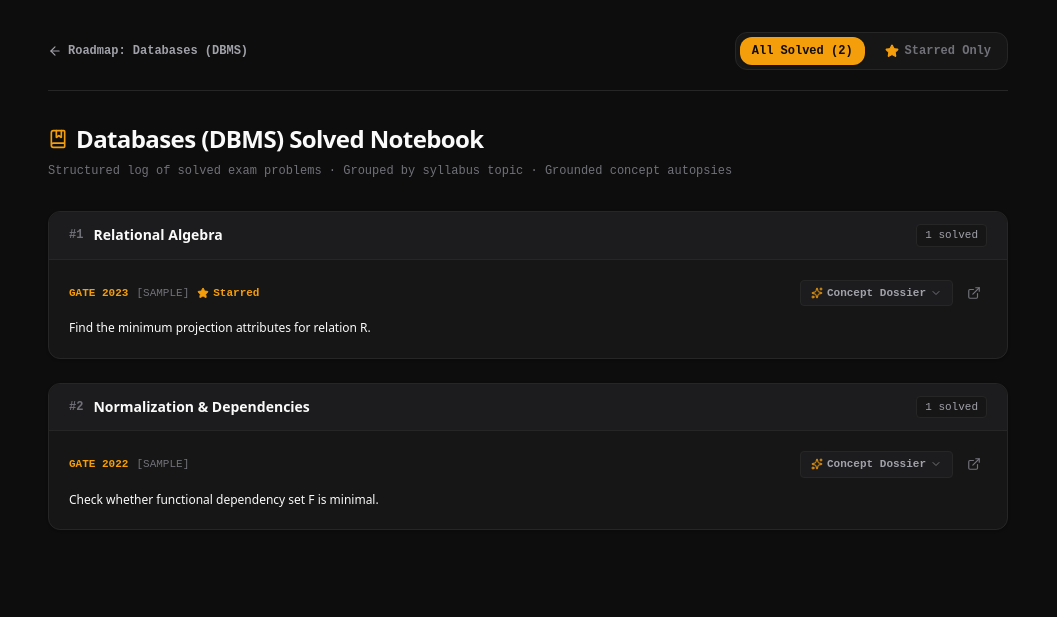
Test: SubjectNotebookPage › shows fallback message when anatomy dossier is absent
Click the button with test id "btn-toggle-anatomy-q-nb-2" at [876, 464], box [800,451,953,478]
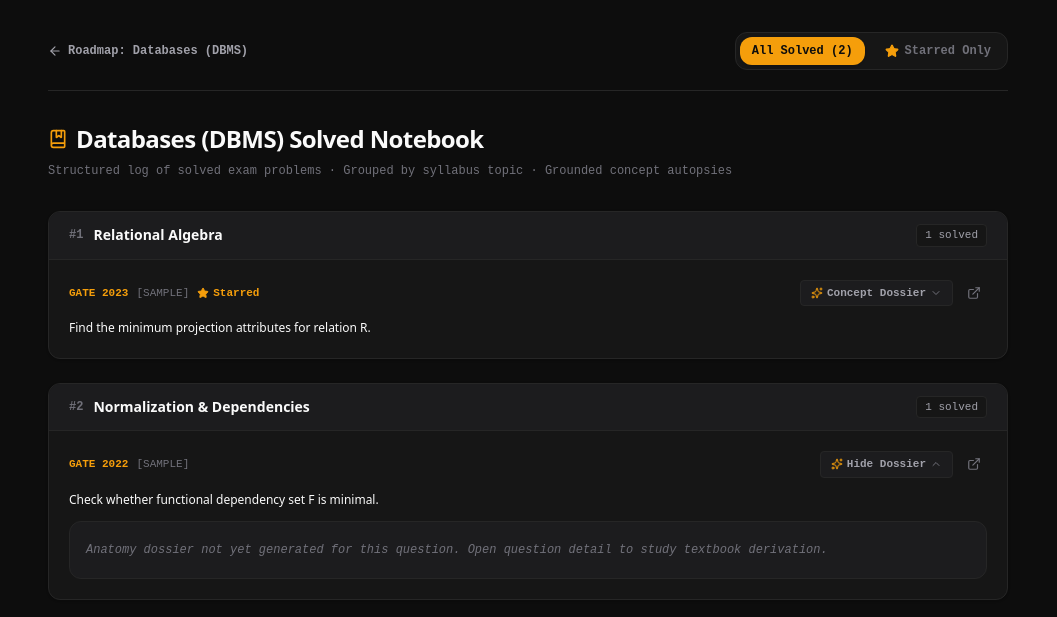
expect the text "Anatomy dossier not yet generated for this question" is shown: met, box [86,543,828,557]
